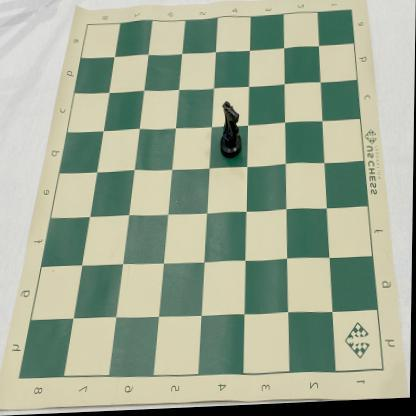black-knight: (220, 103, 243, 162)
